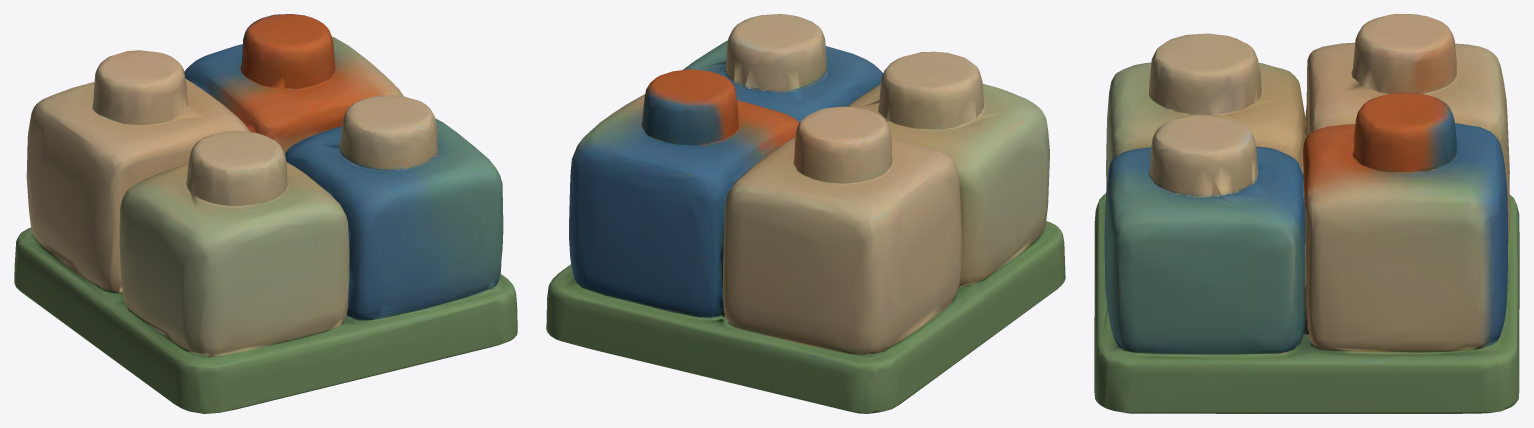
Rendered from quadrell.glb.
The picture shows the model from 3 angles, left to right: view 1: azimuth 30°, elevation 25°; view 2: azimuth 150°, elevation 25°; view 3: azimuth 270°, elevation 25°; orthographic projection. The views are drawn at different scales.
Parts seen in each view (by area): view 1: textured_mesh.obj; view 2: textured_mesh.obj; view 3: textured_mesh.obj.
Part boxes in pixels (left/top/right/bottom): textured_mesh.obj: left=14, top=14, right=517, bottom=413; textured_mesh.obj: left=546, top=14, right=1065, bottom=413; textured_mesh.obj: left=1094, top=14, right=1519, bottom=413.
Size of the model in its own units: 1.52 by 0.9986 by 1.52.
Materials: 1 (1 with a texture image).
